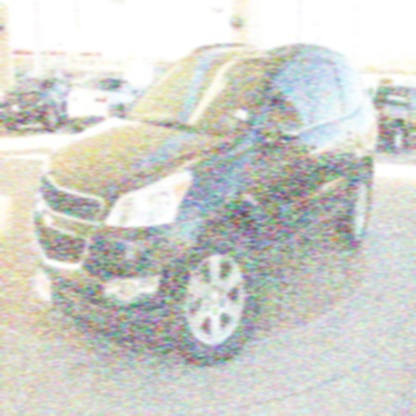Vehicle: (29, 1, 378, 368)
